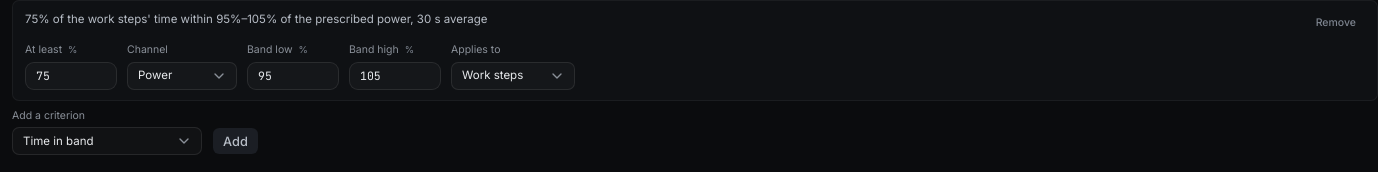
Test: CriteriaEditor › widens a criterion from the work steps to the whole ride
Step 1. Select "The whole ride" in the dropdown labelled "Applies to" → (513, 76), box [451,62,575,90]
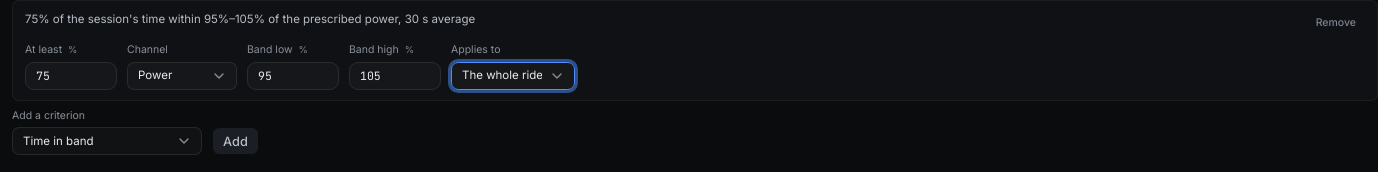
Now the text "75% of the session's time within 95%–105% of the prescribed power, 30 s average" is shown, box [25,12,475,26]
